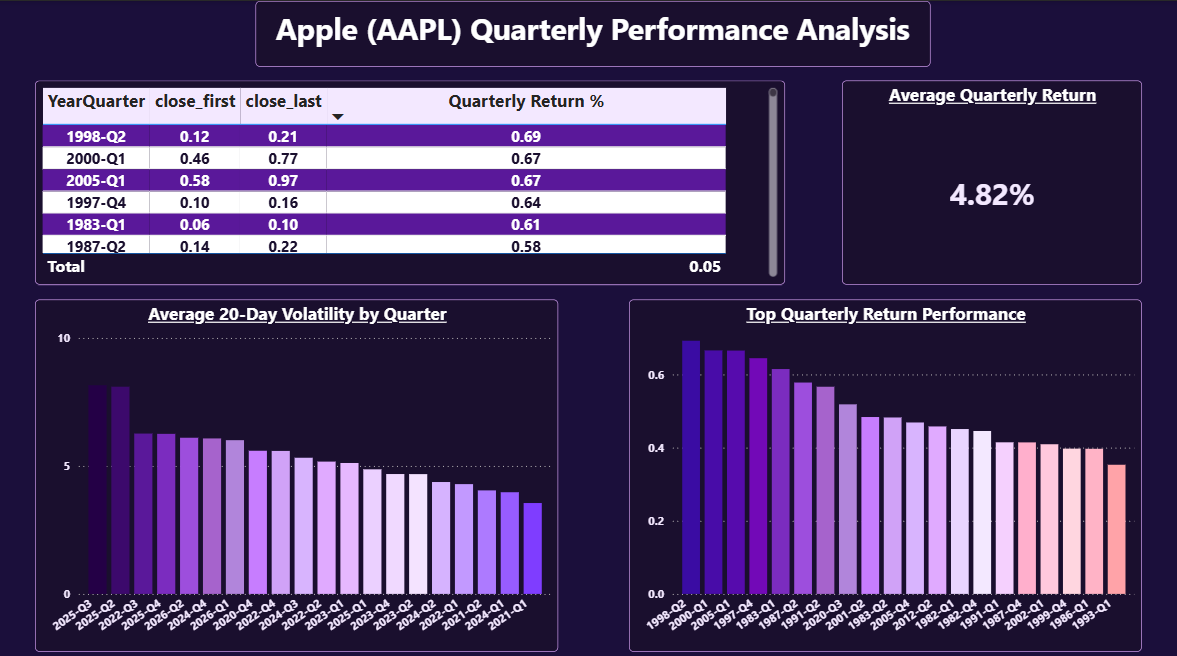

Layout of this report page (visuals, bound fields, positions):
{"tool":"powerbi","page":{"name":"QUARTERLY PERFORMANCE ANALYSIS","canvas":[1280,720],"ordinal":2},"visuals":[{"type":"clusteredColumnChart","title":"Top Quarterly Return Performance","fields":{"Category":["aapl_quarterly_summary.YearQuarter"],"Y":["aapl_quarterly_summary.Quarterly Return %"]},"box":[683.1,323.7,556.3,382.2],"z":0},{"type":"clusteredColumnChart","title":"Average 20-Day Volatility by Quarter","fields":{"Category":["aapl_quarterly_summary.YearQuarter"],"Y":["Avg(aapl_quarterly_summary.volatility_20d_mean)"]},"box":[39,323.7,567.7,382.2],"z":1000},{"type":"card","title":"Average Quarterly Return","fields":{"Values":["aapl_quarterly_summary.Quarterly Return %"]},"box":[914.1,86.2,325.3,221.2],"z":2000},{"type":"tableEx","fields":{"Values":["aapl_quarterly_summary.YearQuarter","aapl_quarterly_summary.close_first","aapl_quarterly_summary.close_last","aapl_quarterly_summary.Quarterly Return %"]},"box":[39,86.2,813.3,221.2],"z":3000},{"type":"textbox","box":[278.1,0,731.9,71.6],"z":4000}]}

Visuals, with their boxes in screenshot pixels (x1, y1, x2, y2), scaled from the page's 1280x720 canvas onto the 1177x656 screenshot:
"Top Quarterly Return Performance" clusteredColumnChart: left=628, top=295, right=1140, bottom=643
"Average 20-Day Volatility by Quarter" clusteredColumnChart: left=36, top=295, right=558, bottom=643
"Average Quarterly Return" card: left=841, top=79, right=1140, bottom=280
tableEx - aapl_quarterly_summary.YearQuarter x aapl_quarterly_summary.close_first: left=36, top=79, right=784, bottom=280
textbox: left=256, top=0, right=929, bottom=65
